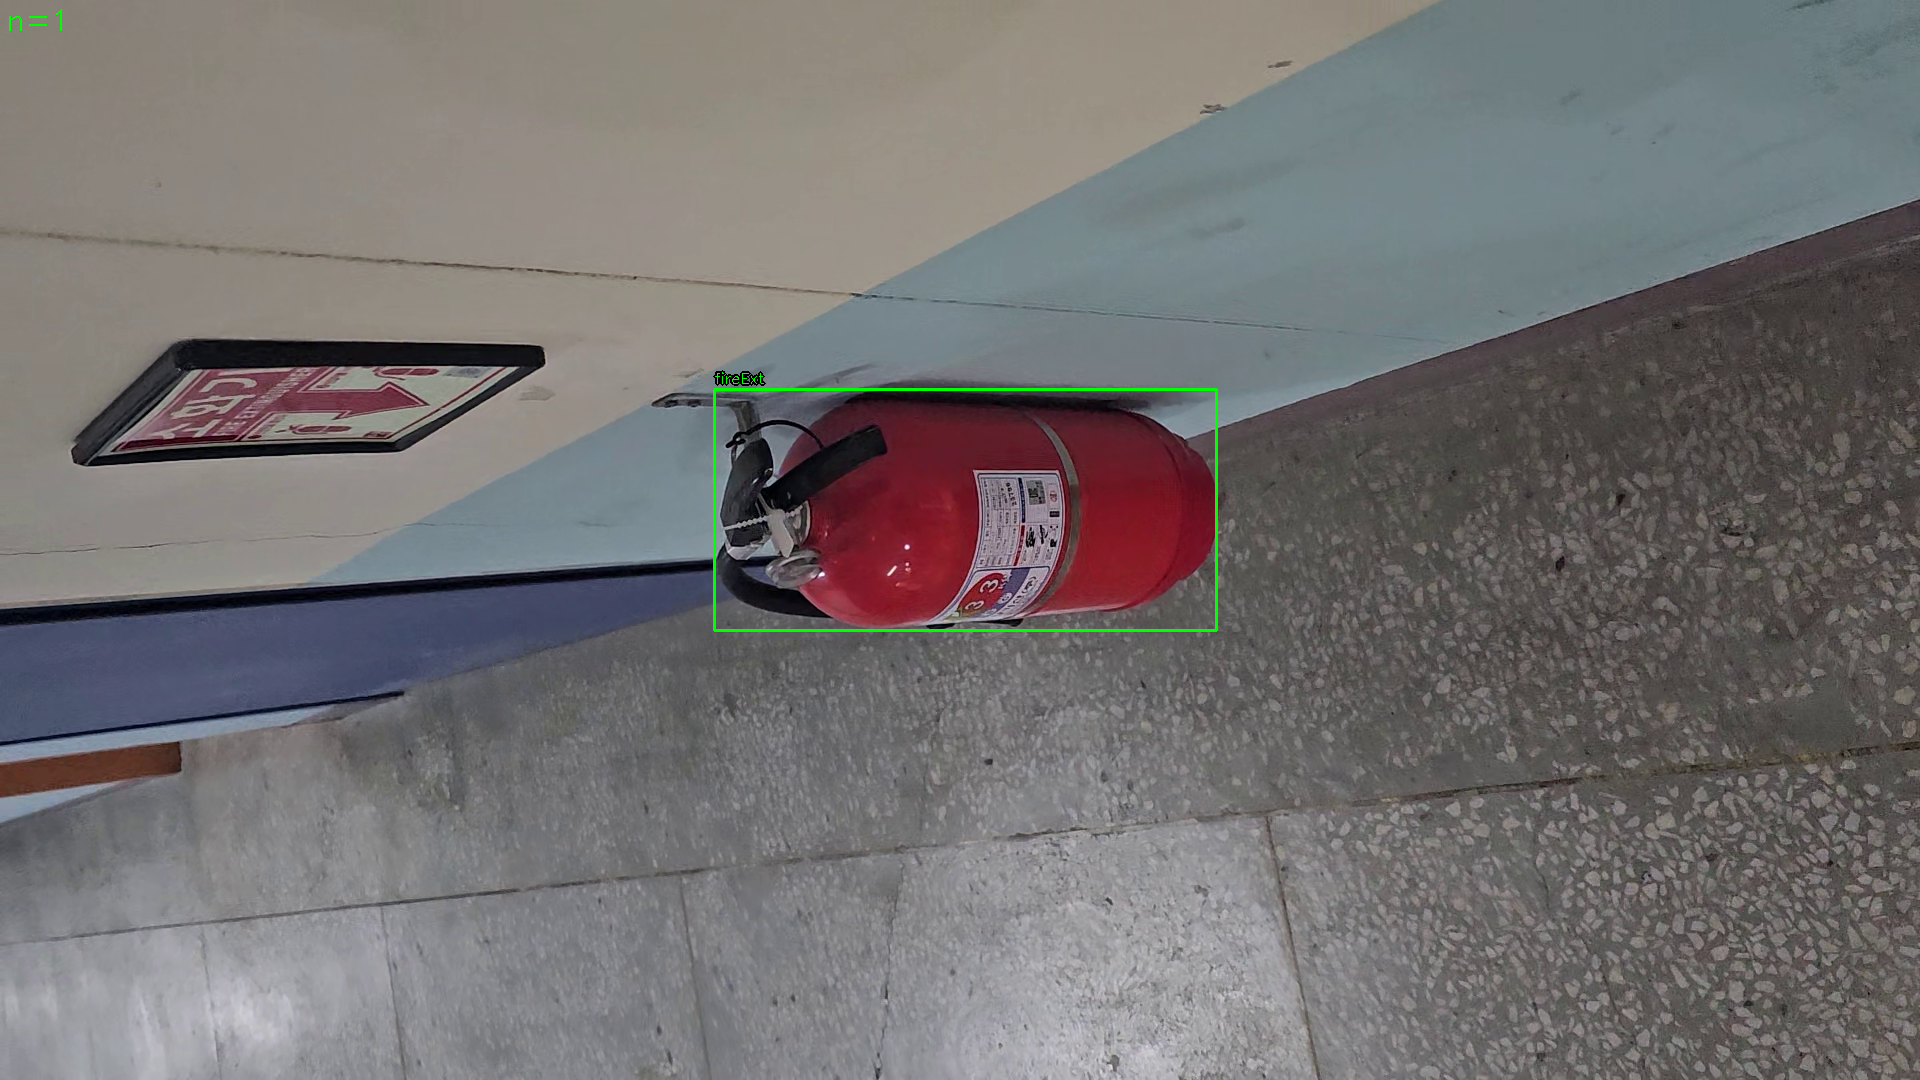lane: (713, 389, 1217, 632)
